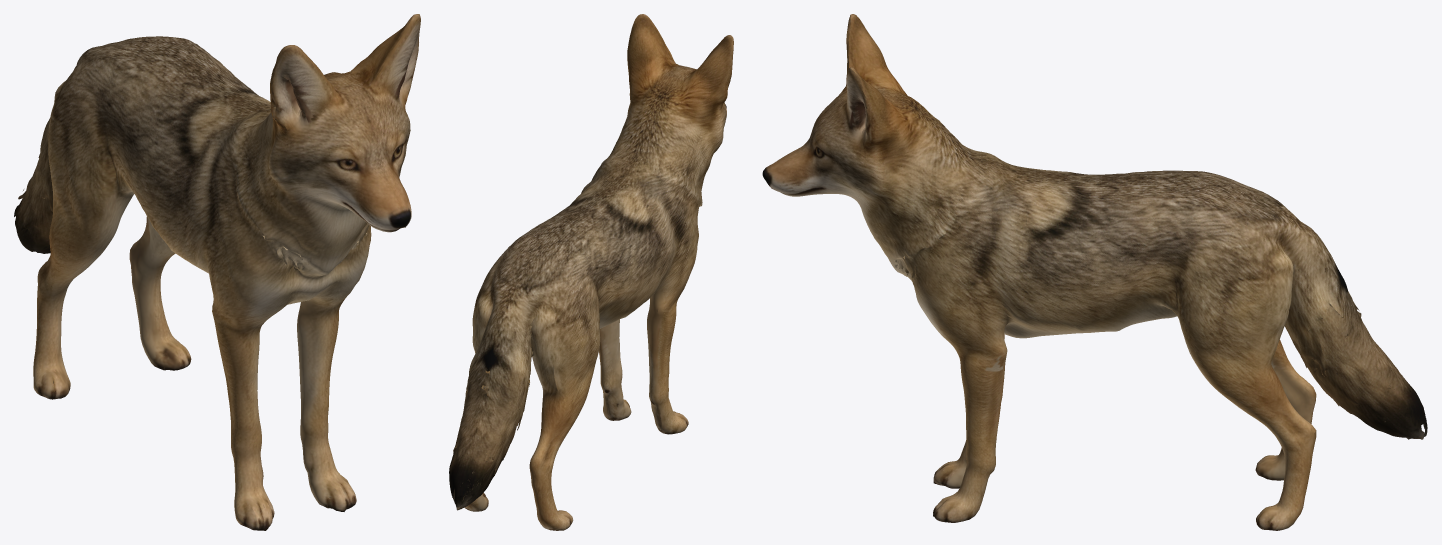
The model's file is trailpup.glb.
3 views of the same model, side by side, from view 1: azimuth 30°, elevation 25°; view 2: azimuth 150°, elevation 25°; view 3: azimuth 270°, elevation 25° (orthographic). The views are drawn at different scales.
Visible parts, largest first — view 1: Mesh_0; view 2: Mesh_0; view 3: Mesh_0.
Part boxes in pixels (x1=…): Mesh_0: x1=14, y1=14, x2=420, y2=530; Mesh_0: x1=449, y1=14, x2=733, y2=530; Mesh_0: x1=762, y1=14, x2=1427, y2=530.
Size of the model in its own units: 0.446 by 1.45 by 1.9.
1 material, 1 textured.
